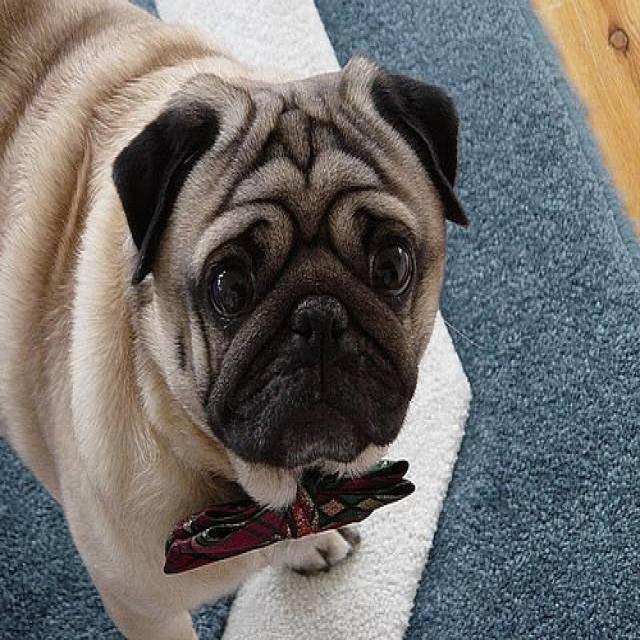dog: (0, 0, 470, 638)
